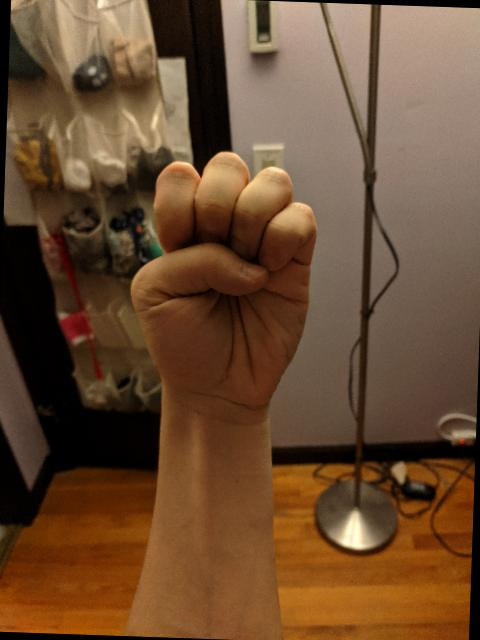E: (121, 144, 324, 416)
